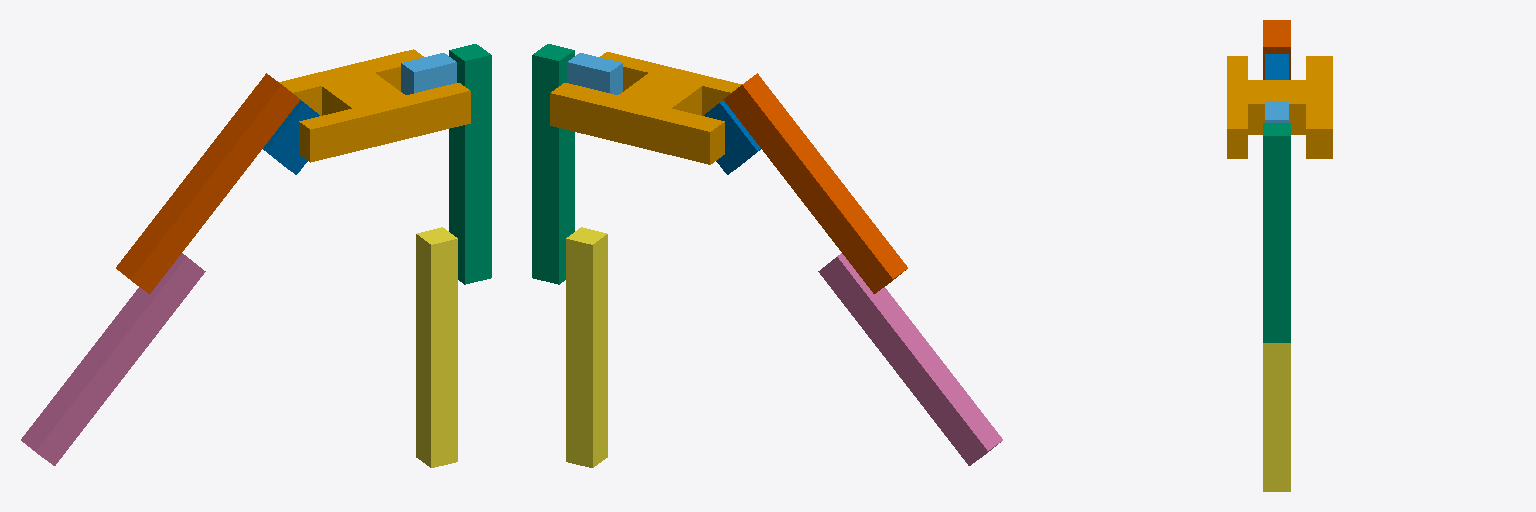
robot.urdf — bipedal:
<?xml version="1.0"?>
<robot name="bipedal">

  <!-- core -->
  <link name="core">
   <visual>
     <geometry>
       <mesh filename="core.stl"/>
     </geometry>
     <origin rpy="0 0 0" xyz="0 0 -5"/>
   </visual>
   <collision>
     <geometry>
       <mesh filename="core.stl"/>
     </geometry>
     <origin rpy="0 0 0" xyz="0 0 -5"/>
   </collision>
   <inertial>
     <mass value="10"/>
     <inertia ixx="1" iyy="1" izz="1"/>
   </inertial>
  </link>

  <!-- left leg -->

  <joint name="core_left_hip" type="revolute">
    <axis xyz="0 1 0"/>
    <limit effort="1000.0" lower="-0.785398" upper="0.785398" velocity="0.5"/>
    <parent link="core"/>
    <child link="left_hip"/>
    <origin xyz="3 0 0"/>
  </joint>

  <link name="left_hip">
    <visual>
      <geometry>
        <mesh filename="left_hip.stl"/>
      </geometry>
     <origin rpy="0 0 0" xyz="-3 0 -5"/>
    </visual>
    <collision>
      <geometry>
        <mesh filename="left_hip.stl"/>
      </geometry>
      <origin rpy="0 0 0" xyz="-3 0 -5"/>
    </collision>
    <inertial>
      <mass value="10"/>
      <inertia ixx="1" iyy="1" izz="1"/>
    </inertial>
  </link>

  <joint name="left_hip_left_leg_top" type="revolute">
    <axis xyz="1 0 0"/>
    <limit effort="1000.0" lower="0.0" upper="3.14159" velocity="0.5"/>
    <parent link="left_hip"/>
    <child link="left_leg_top"/>
    <origin xyz="0 0 0"/>
  </joint>

  <link name="left_leg_top">
    <visual>
      <geometry>
        <mesh filename="left_leg_top.stl"/>
      </geometry>
     <origin rpy="0 0 0" xyz="-3 0 -5"/>
    </visual>
    <collision>
      <geometry>
        <mesh filename="left_leg_top.stl"/>
      </geometry>
     <origin rpy="0 0 0" xyz="-3 0 -5"/>
    </collision>
    <inertial>
      <mass value="10"/>
      <inertia ixx="1" iyy="1" izz="1"/>
    </inertial>
  </link>

  <joint name="left_leg_top_left_leg_bottom" type="revolute">
    <axis xyz="1 0 0"/>
    <limit effort="1000.0" lower="0.0" upper="3.14159" velocity="0.5"/>
    <parent link="left_leg_top"/>
    <child link="left_leg_bottom"/>
    <origin xyz="0 0 -5"/>
  </joint>

  <link name="left_leg_bottom">
    <visual>
      <geometry>
        <mesh filename="left_leg_bottom.stl"/>
      </geometry>
     <origin rpy="0 0 0" xyz="-3 0 0"/>
    </visual>
    <collision>
      <geometry>
        <mesh filename="left_leg_bottom.stl"/>
      </geometry>
     <origin rpy="0 0 0" xyz="-3 0 0"/>
    </collision>
    <inertial>
      <mass value="10"/>
      <inertia ixx="1" iyy="1" izz="1"/>
    </inertial>
  </link>

  <!-- right leg -->

  <joint name="core_right_hip" type="revolute">
    <axis xyz="0 1 0"/>
    <limit effort="1000.0" lower="0.785398" upper="0.785398" velocity="0.5"/>
    <parent link="core"/>
    <child link="right_hip"/>
    <origin xyz="-3 0 0"/>
  </joint>

 <link name="right_hip">
   <visual>
     <geometry>
       <mesh filename="right_hip.stl"/>
     </geometry>
     <origin rpy="0 0 0" xyz="3 0 -5"/>
   </visual>
   <collision>
     <geometry>
       <mesh filename="right_hip.stl"/>
     </geometry>
     <origin rpy="0 0 0" xyz="3 0 -5"/>
   </collision>
   <inertial>
     <mass value="10"/>
     <inertia ixx="1" iyy="1" izz="1"/>
   </inertial>
 </link>

 <joint name="right_hip_right_leg_top" type="revolute">
   <axis xyz="1 0 0"/>
   <limit effort="1000.0" lower="0.0" upper="3.14159" velocity="0.5"/>
   <parent link="right_hip"/>
   <child link="right_leg_top"/>
   <origin xyz="0 0 0"/>
 </joint>

 <link name="right_leg_top">
   <visual>
     <geometry>
       <mesh filename="right_leg_top.stl"/>
     </geometry>
    <origin rpy="0 0 0" xyz="3 0 -5"/>
   </visual>
   <collision>
     <geometry>
       <mesh filename="right_leg_top.stl"/>
     </geometry>
    <origin rpy="0 0 0" xyz="3 0 -5"/>
   </collision>
   <inertial>
     <mass value="10"/>
     <inertia ixx="1" iyy="1" izz="1"/>
   </inertial>
 </link>

 <joint name="right_leg_top_right_leg_bottom" type="revolute">
   <axis xyz="1 0 0"/>
   <limit effort="1000.0" lower="0.0" upper="3.14159" velocity="0.5"/>
   <parent link="right_leg_top"/>
   <child link="right_leg_bottom"/>
   <origin xyz="0 0 -5"/>
 </joint>

 <link name="right_leg_bottom">
   <visual>
     <geometry>
       <mesh filename="right_leg_bottom.stl"/>
     </geometry>
    <origin rpy="0 0 0" xyz="3 0 0"/>
   </visual>
   <collision>
     <geometry>
       <mesh filename="right_leg_bottom.stl"/>
     </geometry>
     <origin rpy="0 0 0" xyz="3 0 0"/>
   </collision>
   <inertial>
     <mass value="10"/>
     <inertia ixx="1" iyy="1" izz="1"/>
   </inertial>
 </link>


</robot>

--- Render facts (derived) ---
The picture shows the robot from 3 angles, left to right: view 1: azimuth 30°, elevation 25°; view 2: azimuth 150°, elevation 25°; view 3: azimuth 270°, elevation 25°; orthographic projection.
Robot: bipedal — 7 links, 6 joints (6 revolute); root link core; default pose: joints at zero except 1 at the middle of their limits (core_right_hip = 0.7854).
Links seen in each view (by area): view 1: core, right_leg_top, right_leg_bottom, left_leg_bottom, left_leg_top, left_hip, right_hip; view 2: core, right_leg_top, right_leg_bottom, left_leg_bottom, left_leg_top, left_hip, right_hip; view 3: core, left_leg_top, left_leg_bottom, right_leg_top, right_hip, left_hip.
Link boxes in pixels (<box>): core: <box>254,49,470,162</box>; right_leg_top: <box>116,73,300,293</box>; right_leg_bottom: <box>21,253,205,465</box>; left_leg_bottom: <box>416,227,457,467</box>; left_leg_top: <box>449,44,491,284</box>; left_hip: <box>401,53,456,94</box>; right_hip: <box>263,100,319,174</box>; core: <box>550,52,741,164</box>; right_leg_top: <box>723,73,907,293</box>; right_leg_bottom: <box>818,253,1002,465</box>; left_leg_bottom: <box>566,227,607,467</box>; left_leg_top: <box>532,44,574,284</box>; left_hip: <box>567,53,622,94</box>; right_hip: <box>704,100,760,174</box>; core: <box>1227,56,1332,158</box>; left_leg_top: <box>1263,123,1290,342</box>; left_leg_bottom: <box>1263,343,1290,491</box>; right_leg_top: <box>1263,20,1290,79</box>; right_hip: <box>1265,54,1288,79</box>; left_hip: <box>1265,101,1288,122</box>.
Size in the robot's own frame: 17.07 by 3.68 by 15.05 metres.
7 mesh visuals loaded from 7 distinct referenced files (7 binary STL).